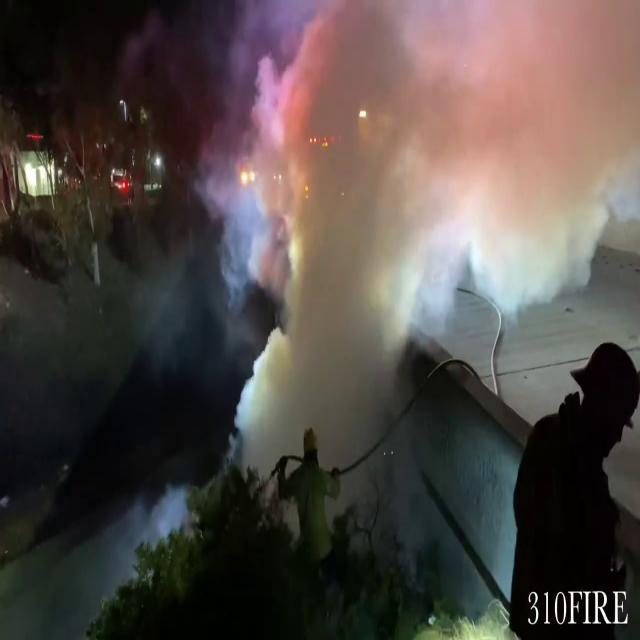Smoke: (230, 0, 634, 392)
